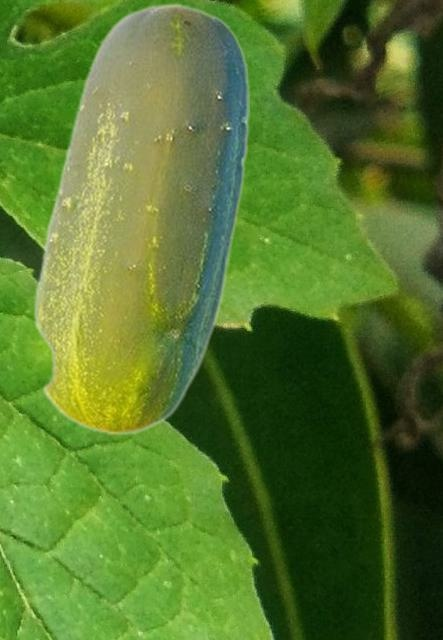cucumber: (32, 2, 248, 435)
